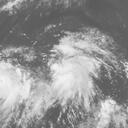cyclone: (48, 47, 98, 105), (1, 57, 30, 114)
